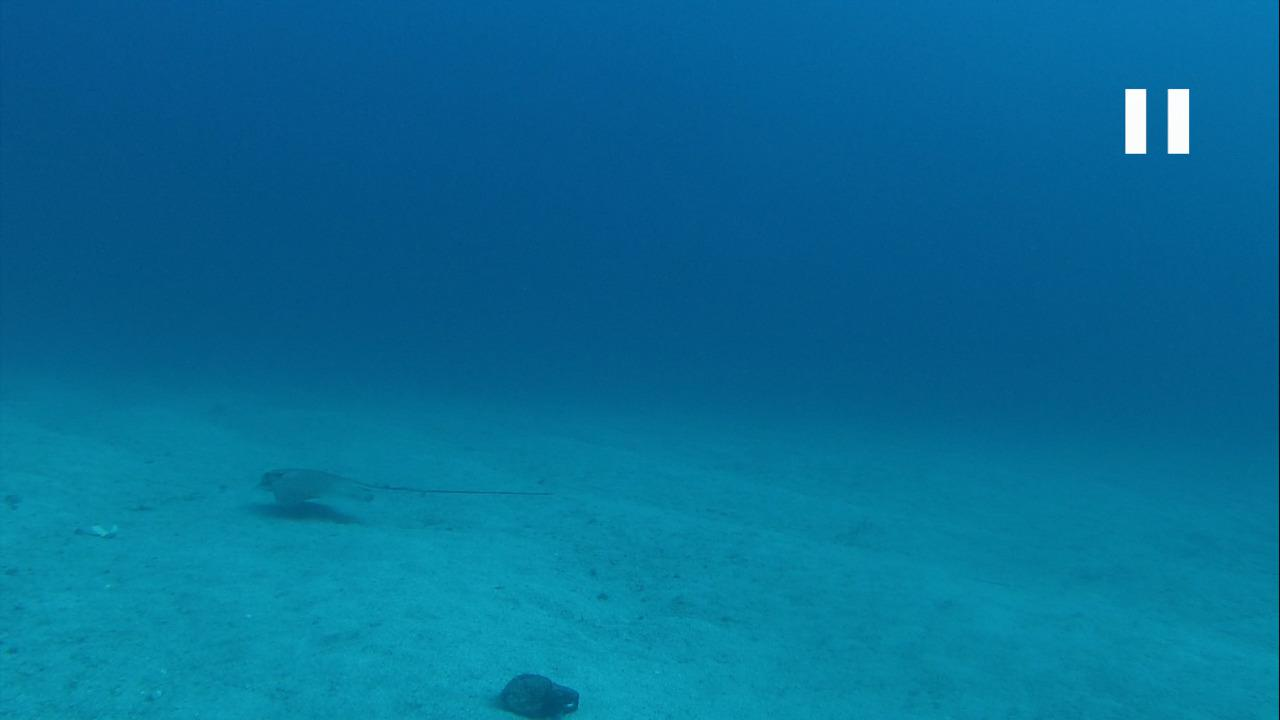myliobatis: (240, 460, 552, 519)
